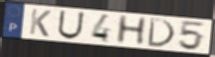4: (88, 13, 113, 44)
5: (178, 19, 208, 51)
D: (146, 17, 177, 49)
H: (114, 14, 149, 46)
K: (28, 7, 52, 38)
U: (56, 9, 87, 40)
